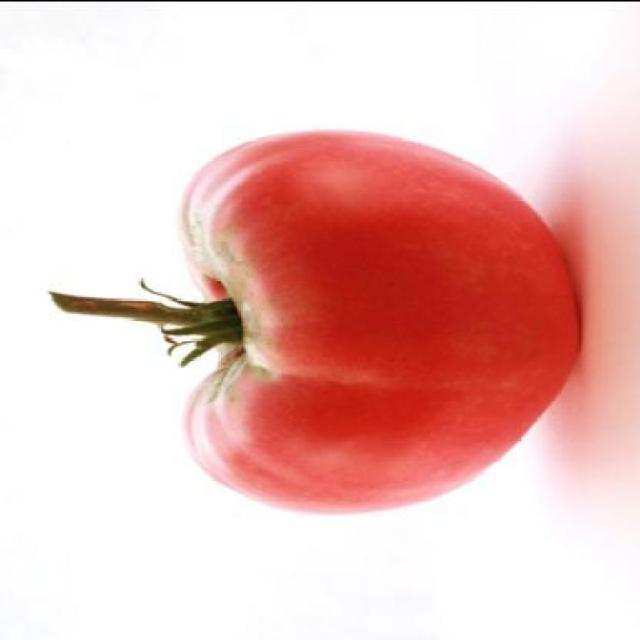Tomato: (45, 126, 578, 511)
